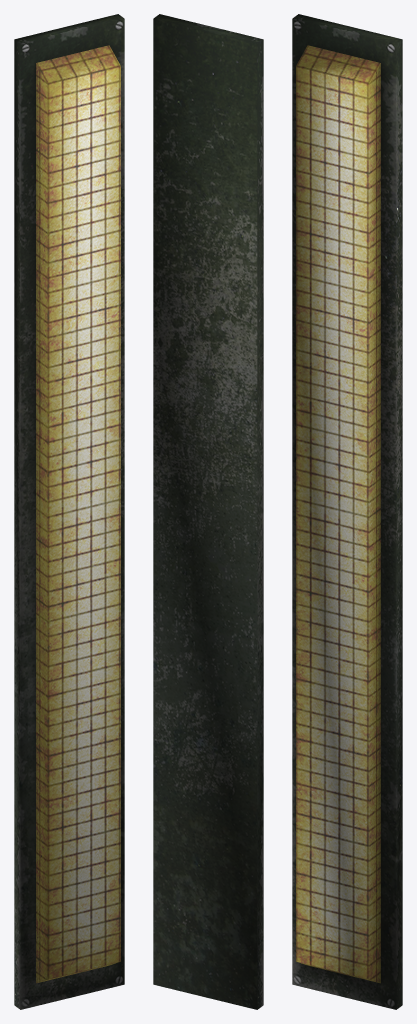
Rendered from Light_01.fbx.
The picture shows the model from 3 angles, left to right: view 1: azimuth 30°, elevation 25°; view 2: azimuth 150°, elevation 25°; view 3: azimuth 330°, elevation 25°; orthographic projection.
Parts seen in each view (by area): view 1: Light_01; view 2: Light_01; view 3: Light_01.
Boxes of the visible parts, x1,y1,x2,y2 form: Light_01: [14, 14, 124, 1009]; Light_01: [153, 14, 263, 1009]; Light_01: [292, 14, 402, 1009].
Bounding box in the file's own units: 0.4854 × 4.31 × 0.1467.
